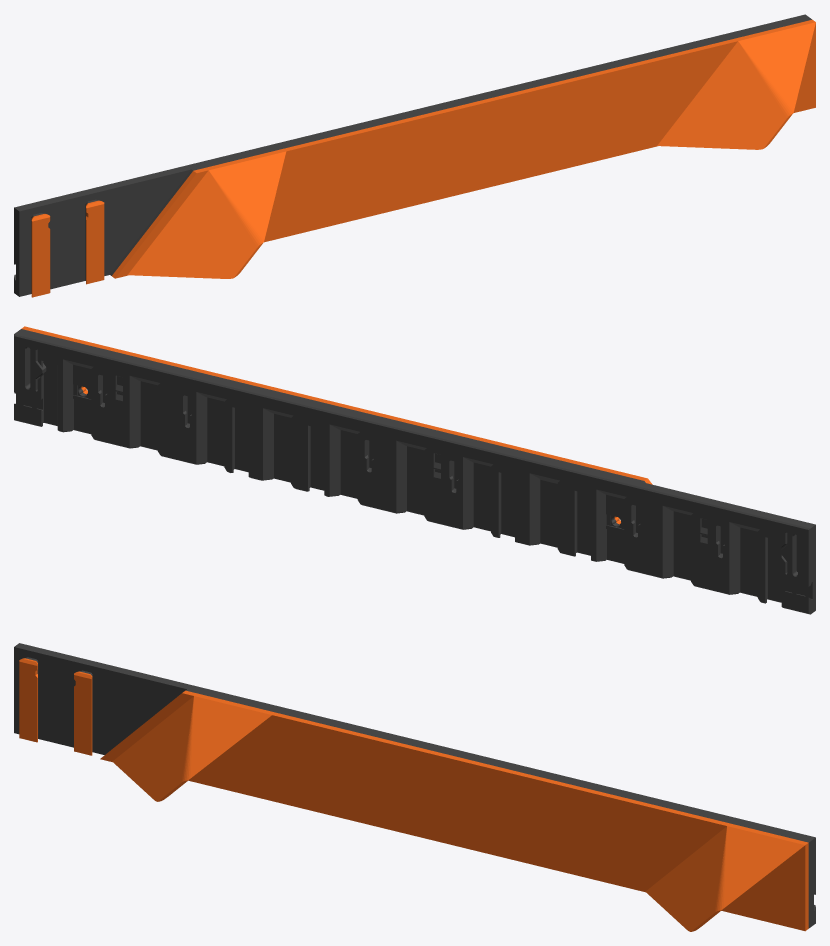
The model's file is Faceplate_EdgeLabel_3W-05H.lib.glb.
3 views of the same model, one above another, from view 1: azimuth 30°, elevation 25°; view 2: azimuth 150°, elevation 25°; view 3: azimuth 330°, elevation 25° (orthographic).
Parts seen in each view (by area): view 1: Faceplate_EdgeLabel_3W-05H; view 2: Faceplate_EdgeLabel_3W-05H; view 3: Faceplate_EdgeLabel_3W-05H.
Part boxes in pixels (bbox=[...]): Faceplate_EdgeLabel_3W-05H: bbox=[14, 14, 815, 297]; Faceplate_EdgeLabel_3W-05H: bbox=[14, 326, 815, 614]; Faceplate_EdgeLabel_3W-05H: bbox=[14, 643, 815, 931].
Bounding box in the file's own units: 263 × 27.16 × 24.11.
